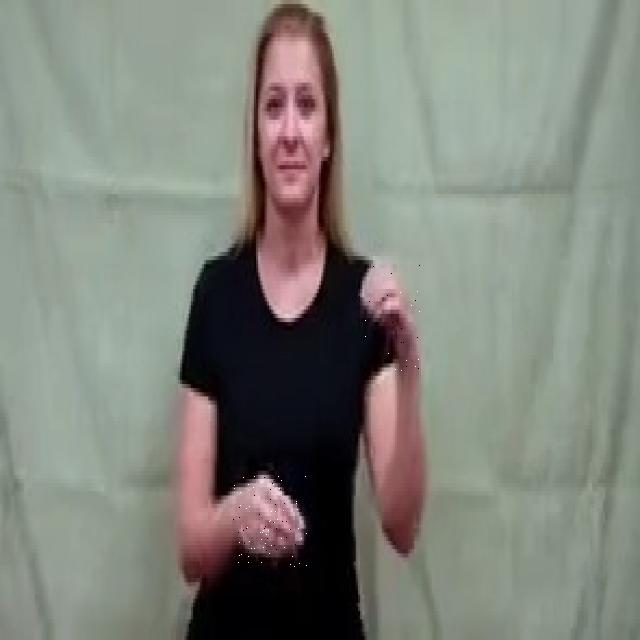ingredients: (356, 258, 420, 371), (233, 473, 308, 567)
